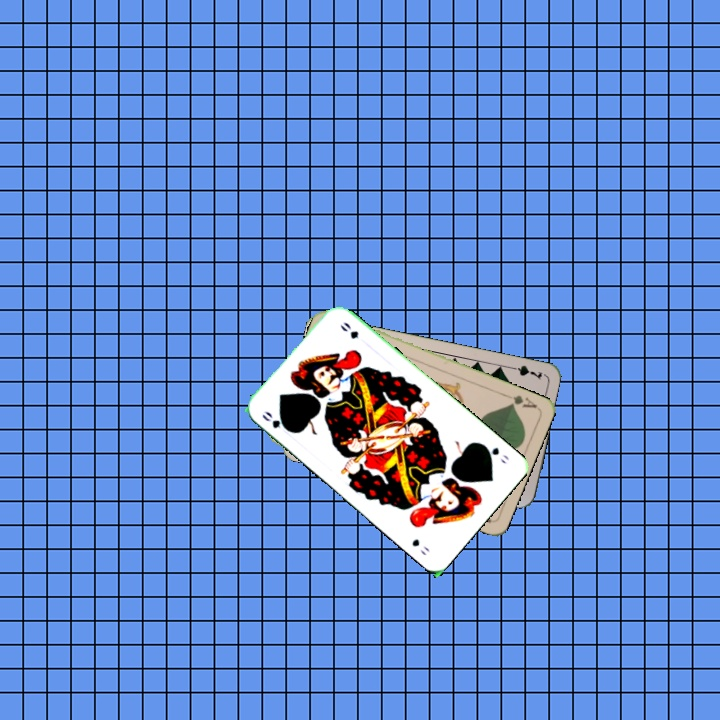G7: (505, 361, 545, 382)
GA: (500, 390, 539, 411)
GO: (258, 407, 293, 437), (477, 440, 512, 467)
